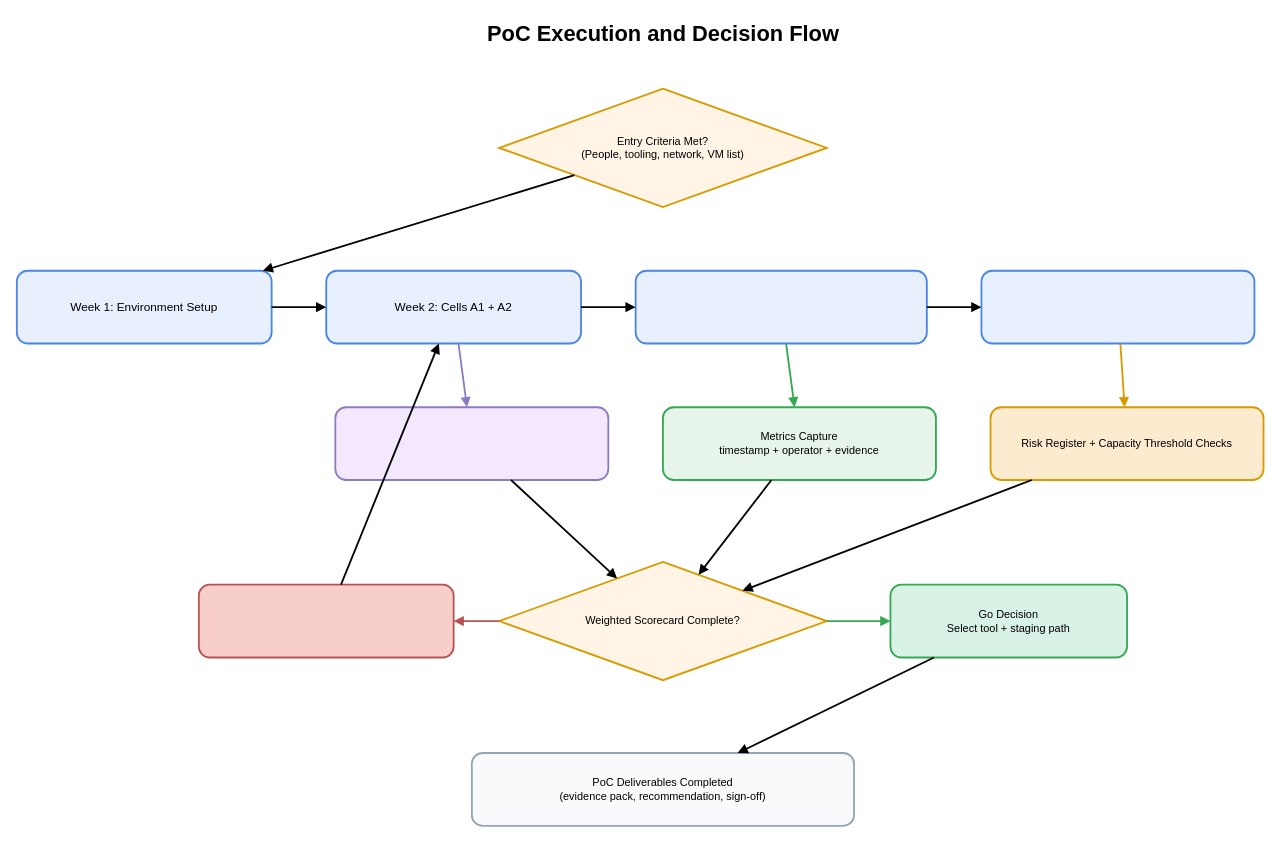
Image size: 1279x842. Some labels were removed from this diagram. Here are the shapes that lost their labels. From the top down, the centre of each, then its label:
the point at 780,306: Week 3: Azure Migrate + A3/A4 Setup
the point at 1117,306: Week 4: Cells A3 + A4 + Decision
the point at 471,443: Per-Cell Gates Pass/Fail + Auto-fail conditions
the point at 325,620: No-Go / Extend PoC Address blockers + rerun failed cells
